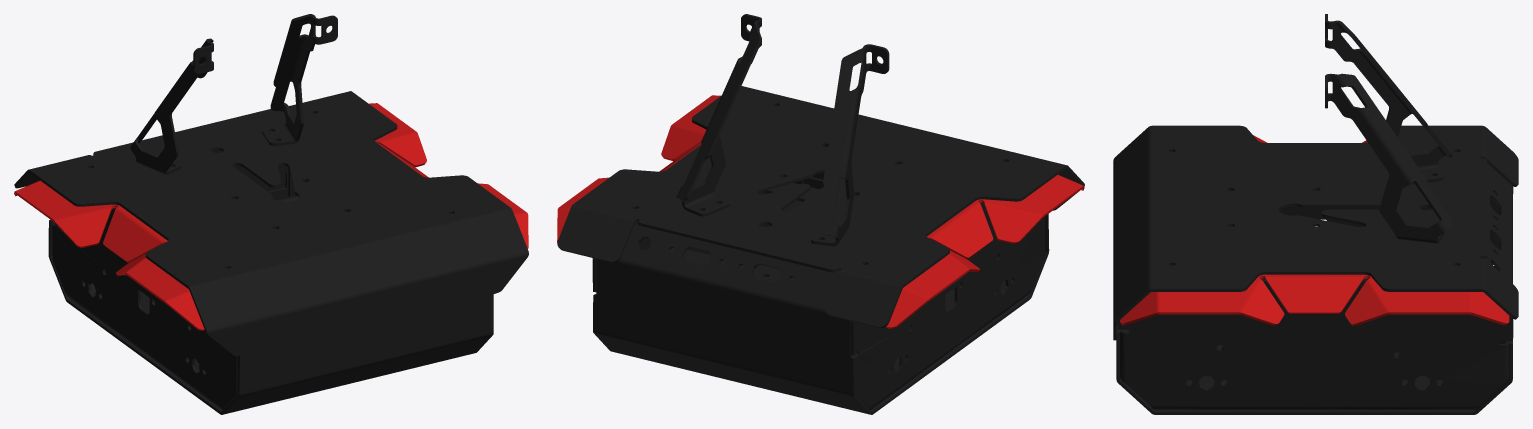
File: body.dae
3 views of the same model, side by side, from view 1: azimuth 30°, elevation 25°; view 2: azimuth 150°, elevation 25°; view 3: azimuth 270°, elevation 25° (orthographic). The views are drawn at different scales.
Visible parts, largest first — view 1: node1, node0; view 2: node1, node0; view 3: node1, node0.
Part boxes in pixels (left/top/right/bottom): node1: left=14, top=14, right=528, bottom=414; node0: left=14, top=103, right=528, bottom=330; node1: left=557, top=14, right=1084, bottom=414; node0: left=557, top=95, right=1084, bottom=328; node1: left=1113, top=14, right=1518, bottom=414; node0: left=1120, top=135, right=1509, bottom=325.
Bounding box in the file's own units: 214 × 166 × 199.
